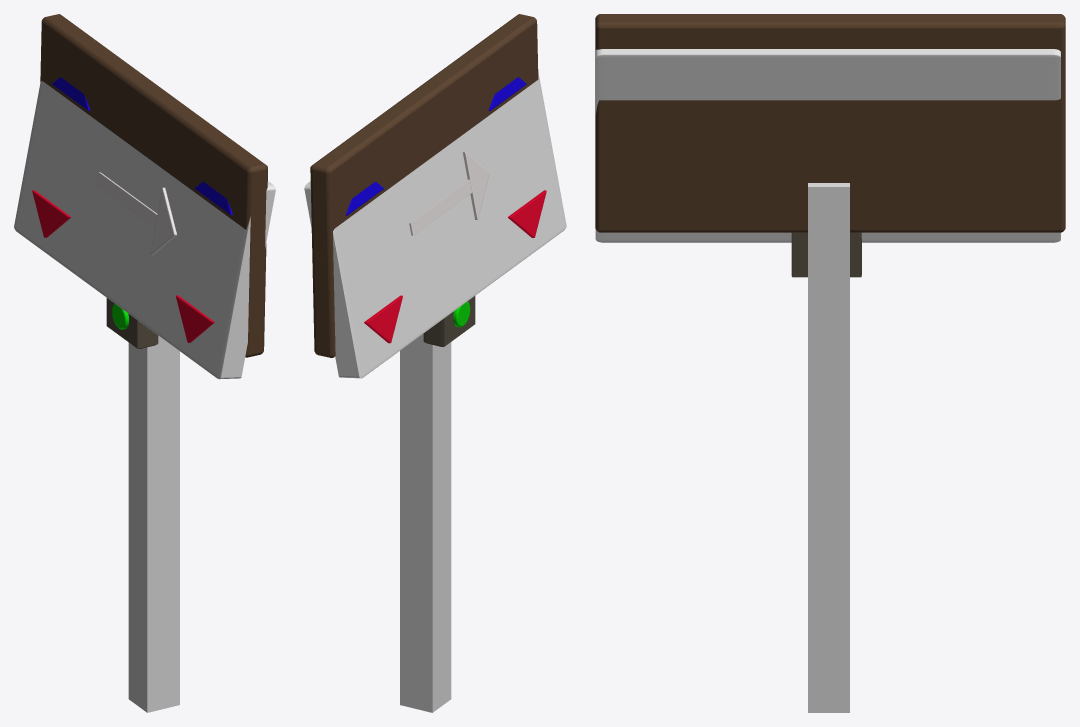
File: ControllerV2.2.fbx
3 views of the same model, side by side, from view 1: azimuth 30°, elevation 25°; view 2: azimuth 150°, elevation 25°; view 3: azimuth 270°, elevation 25° (orthographic). The views are drawn at different scales.
Visible parts, largest first — view 1: Cube.046, Cube.037, Cube.045, Cube.044, Cube.043, Cube.042, Cube.041, Cube.040, Cube.038, Cube.039; view 2: Cube.046, Cube.037, Cube.045, Cube.044, Cube.043, Cube.042, Cube.041, Cube.040, Cube.038, Cube.039; view 3: Cube.037, Cube.046, Cube.045, Cube.044.
Boxes of the visible parts, bbox=[...] form: Cube.046: bbox=[14, 81, 275, 379]; Cube.037: bbox=[40, 14, 267, 357]; Cube.045: bbox=[128, 335, 179, 712]; Cube.044: bbox=[106, 298, 158, 348]; Cube.043: bbox=[96, 172, 157, 227]; Cube.042: bbox=[150, 187, 176, 255]; Cube.041: bbox=[32, 190, 70, 237]; Cube.040: bbox=[176, 295, 214, 342]; Cube.038: bbox=[52, 77, 90, 110]; Cube.039: bbox=[195, 181, 232, 215]; Cube.046: bbox=[304, 72, 566, 378]; Cube.037: bbox=[310, 14, 538, 357]; Cube.045: bbox=[400, 334, 451, 712]; Cube.044: bbox=[423, 296, 475, 346]; Cube.043: bbox=[409, 179, 472, 235]; Cube.042: bbox=[462, 151, 489, 219]; Cube.041: bbox=[364, 295, 402, 343]; Cube.040: bbox=[508, 190, 546, 237]; Cube.038: bbox=[345, 182, 383, 215]; Cube.039: bbox=[488, 77, 526, 110]; Cube.037: bbox=[595, 14, 1065, 232]; Cube.046: bbox=[595, 49, 1060, 242]; Cube.045: bbox=[808, 183, 849, 712]; Cube.044: bbox=[791, 232, 861, 277].
Bounding box in the file's own units: 65.19 × 675 × 419.
